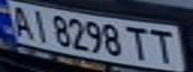2: (63, 16, 87, 52)
8: (100, 20, 127, 57), (45, 12, 72, 47)
9: (84, 19, 106, 55)
A: (3, 3, 36, 38)
I: (24, 8, 54, 43)
T: (145, 26, 181, 64), (124, 24, 154, 62)
